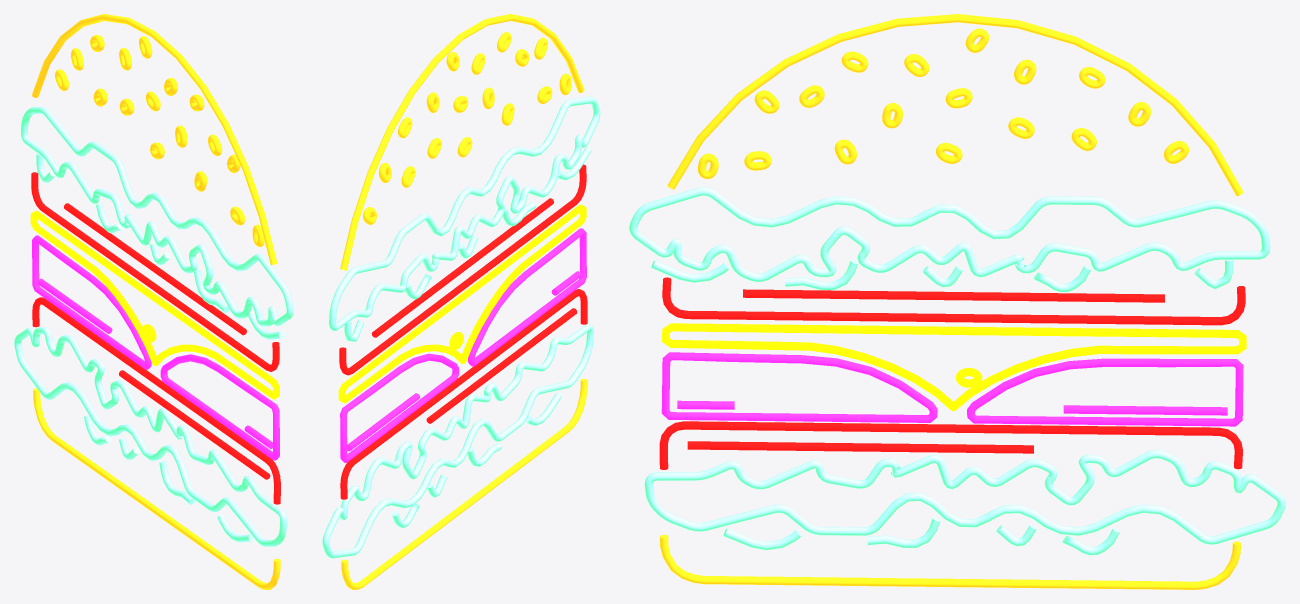
File: Burger.fbx
3 renders of one model, left to right at view 1: azimuth 30°, elevation 25°; view 2: azimuth 150°, elevation 25°; view 3: azimuth 270°, elevation 25°, orthographic. The views are drawn at different scales.
Visible parts, largest first — view 1: Circle.072; view 2: Circle.072; view 3: Circle.072.
Boxes of the visible parts, <box> form: Circle.072: <box>14,14,293,589</box>; Circle.072: <box>322,14,600,589</box>; Circle.072: <box>629,14,1285,589</box>.
Bounding box in the file's own units: 1.32 × 100 × 104.
